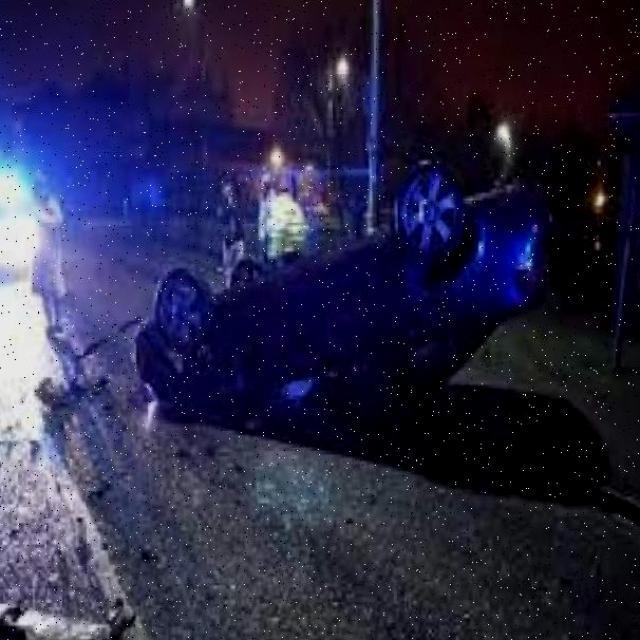accident: (126, 156, 556, 444)
